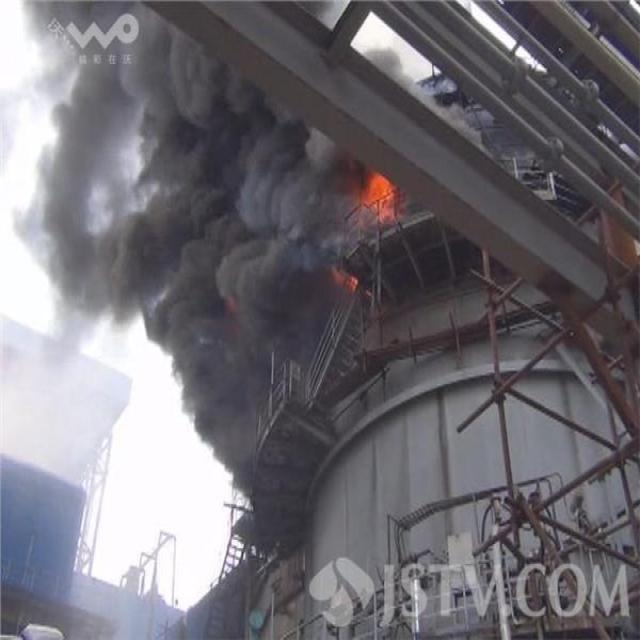Fire: (359, 170, 396, 220)
Smoke: (1, 1, 493, 500)
